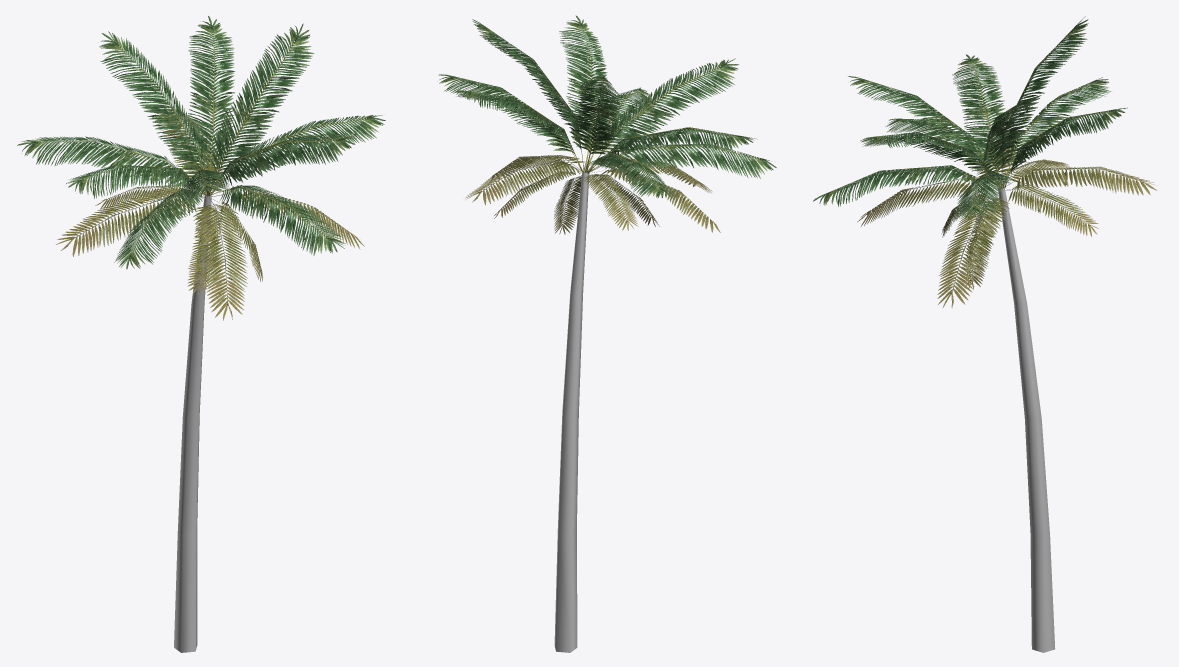
The model's file is Palm.fbx.
3 views of the same model, side by side, from view 1: azimuth 30°, elevation 25°; view 2: azimuth 150°, elevation 25°; view 3: azimuth 270°, elevation 25° (orthographic).
Visible parts, largest first — view 1: polySurface1; view 2: polySurface1; view 3: polySurface1.
Boxes of the visible parts, left/top/right/bottom form: polySurface1: left=17, top=16, right=385, bottom=652; polySurface1: left=437, top=15, right=776, bottom=652; polySurface1: left=813, top=16, right=1156, bottom=652.
Bounding box in the file's own units: 9.69 × 17.35 × 9.24.
